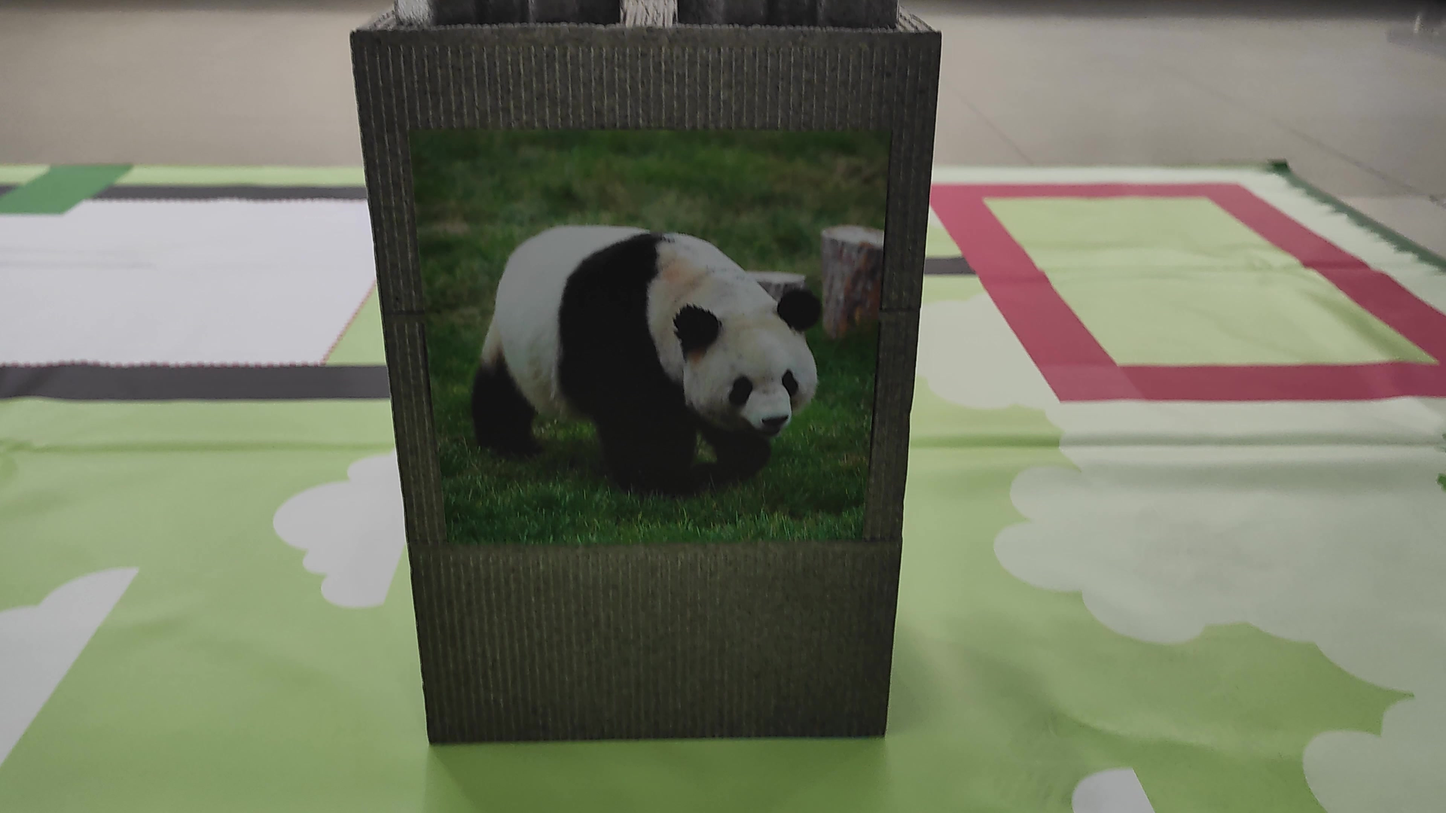panda: (457, 154, 859, 532)
